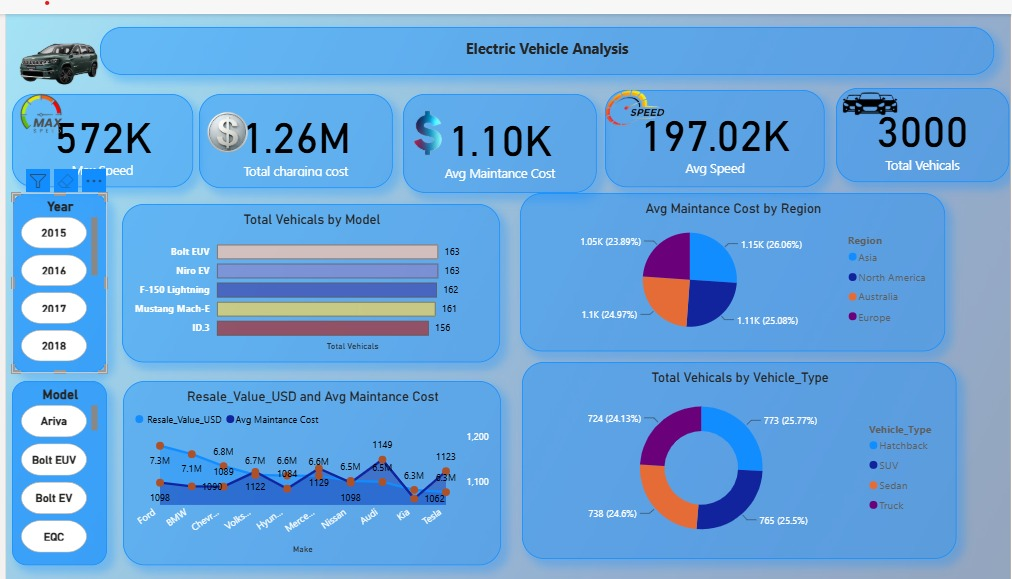

The page's visual inventory and layout, read from the dashboard file:
{"tool":"powerbi","page":{"name":"Page 1","canvas":[1280,720],"ordinal":0},"visuals":[{"type":"card","fields":{"Values":["electric_vehicle_analytics.Max Speed"]},"box":[7.6,102,230.8,118.6],"z":0},{"type":"card","fields":{"Values":["electric_vehicle_analytics.Total charging cost"]},"box":[246.1,101.4,247.2,119.6],"z":1000},{"type":"card","fields":{"Values":["electric_vehicle_analytics.Avg Maintance Cost"]},"box":[506.1,102,247.3,126.2],"z":2000},{"type":"card","fields":{"Values":["electric_vehicle_analytics.Avg Speed"]},"box":[763.7,96.9,280.5,123.7],"z":3000},{"type":"card","fields":{"Values":["electric_vehicle_analytics.Total Vehicals"]},"box":[1058.2,94.3,220.6,119.8],"z":4000},{"type":"textbox","box":[119.8,16.6,1139.8,61.2],"z":5000},{"type":"advancedSlicerVisual","fields":{"Values":["electric_vehicle_analytics.Year"]},"box":[7.6,228.2,121.1,228.2],"z":6000},{"type":"advancedSlicerVisual","fields":{"Values":["electric_vehicle_analytics.Model"]},"box":[7.6,467.9,121.1,234.6],"z":7000},{"type":"image","box":[1044.1,47.2,114.7,131.3],"z":8000},{"type":"image","box":[0,3.8,128.8,121.1],"z":9000},{"type":"image","box":[736.9,58.6,130,122.4],"z":10000},{"type":"image","box":[246.1,94.6,72.9,112.8],"z":11000},{"type":"image","box":[477.3,101.4,121.9,99.1],"z":12000},{"type":"image","box":[0,58.1,91.1,137.8],"z":13000},{"type":"clusteredBarChart","fields":{"Category":["electric_vehicle_analytics.Model"],"Y":["electric_vehicle_analytics.Total Vehicals"]},"box":[148.5,241.9,482.3,202.1],"z":14000},{"type":"areaChart","title":" Resale_Value_USD and Avg Maintance Cost ","fields":{"Category":["electric_vehicle_analytics.Make"],"Y":["Sum(electric_vehicle_analytics.Resale_Value_USD)"],"Y2":["electric_vehicle_analytics.Avg Maintance Cost"]},"box":[149,468,482,235],"z":15000},{"type":"donutChart","fields":{"Category":["electric_vehicle_analytics.Vehicle_Type"],"Y":["electric_vehicle_analytics.Total Vehicals"]},"box":[658.4,444,554.3,251.1],"z":16000},{"type":"pieChart","fields":{"Category":["electric_vehicle_analytics.Region"],"Y":["electric_vehicle_analytics.Avg Maintance Cost"]},"box":[655.3,228.1,542,202.1],"z":17000}]}

Visuals, with their boxes in screenshot pixels (x1, y1, x2, y2), scaled from the page's 1280x720 canvas onto the 1012x579 screenshot:
card - electric_vehicle_analytics.Max Speed: box=[6, 82, 188, 177]
card - electric_vehicle_analytics.Total charging cost: box=[195, 82, 390, 178]
card - electric_vehicle_analytics.Avg Maintance Cost: box=[400, 82, 596, 184]
card - electric_vehicle_analytics.Avg Speed: box=[604, 78, 826, 177]
card - electric_vehicle_analytics.Total Vehicals: box=[837, 76, 1011, 172]
textbox: box=[95, 13, 996, 63]
advancedSlicerVisual - electric_vehicle_analytics.Year: box=[6, 184, 102, 367]
advancedSlicerVisual - electric_vehicle_analytics.Model: box=[6, 376, 102, 565]
image: box=[825, 38, 916, 144]
image: box=[0, 3, 102, 100]
image: box=[583, 47, 685, 146]
image: box=[195, 76, 252, 167]
image: box=[377, 82, 474, 161]
image: box=[0, 47, 72, 158]
clusteredBarChart - electric_vehicle_analytics.Model x electric_vehicle_analytics.Total Vehicals: box=[117, 195, 499, 357]
" Resale_Value_USD and Avg Maintance Cost " areaChart: box=[118, 376, 499, 565]
donutChart - electric_vehicle_analytics.Vehicle_Type x electric_vehicle_analytics.Total Vehicals: box=[521, 357, 959, 559]
pieChart - electric_vehicle_analytics.Region x electric_vehicle_analytics.Avg Maintance Cost: box=[518, 183, 947, 346]
